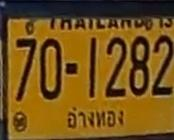0: (39, 38, 61, 98)
1: (89, 37, 97, 97)
2: (151, 34, 173, 96), (104, 37, 126, 98)
7: (13, 38, 36, 102)
8: (128, 35, 148, 95)
ATG: (62, 104, 127, 129)
